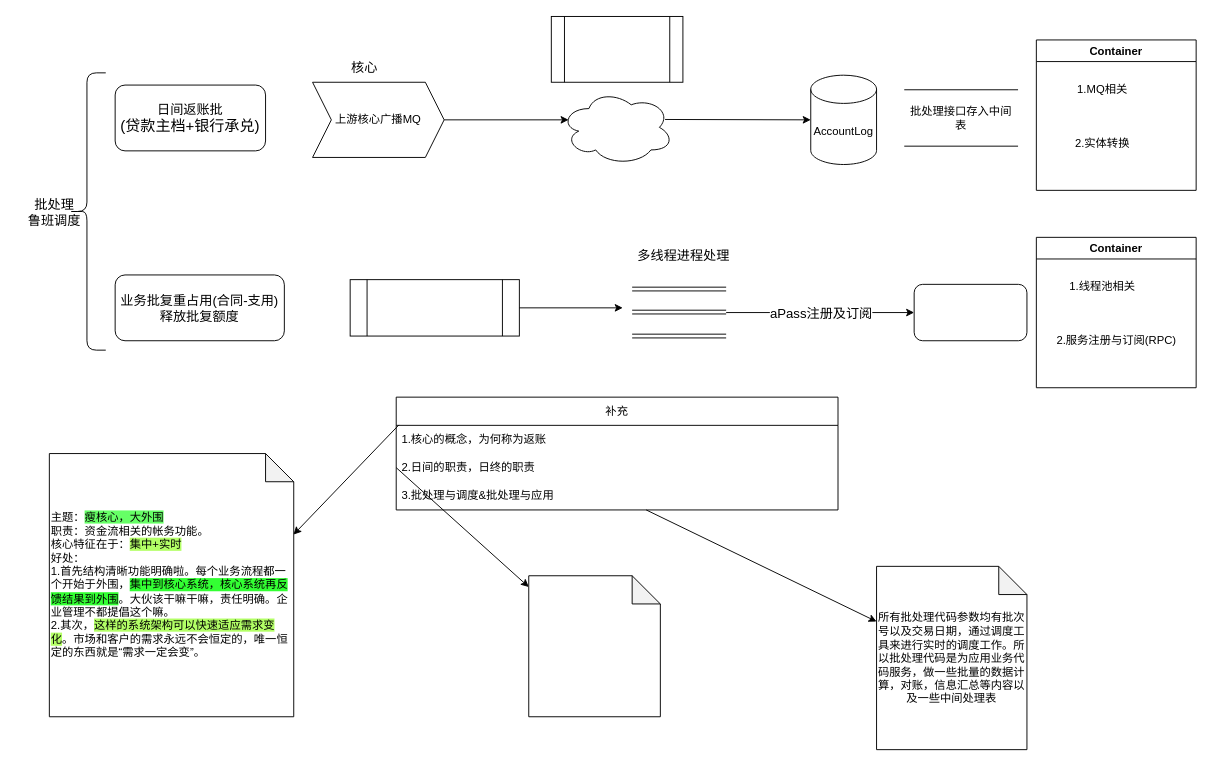
Image size: 1213x766. Some labels were removed from this diagram. Each missing label, with the centre of its shape:
"MQ" goes at (617,127).
"去调用组件接口进行重占用" goes at (970,312).
"批处理接收消息进行返账处理" goes at (616,49).
"日间承担实时的计算功能，日终一是做大批量的对账工作，二是可以做一些兜底工作，全量刷新，即时日间出现问题也可解决" goes at (594,646).
"获取需要处理的合同列表" goes at (434,307).
